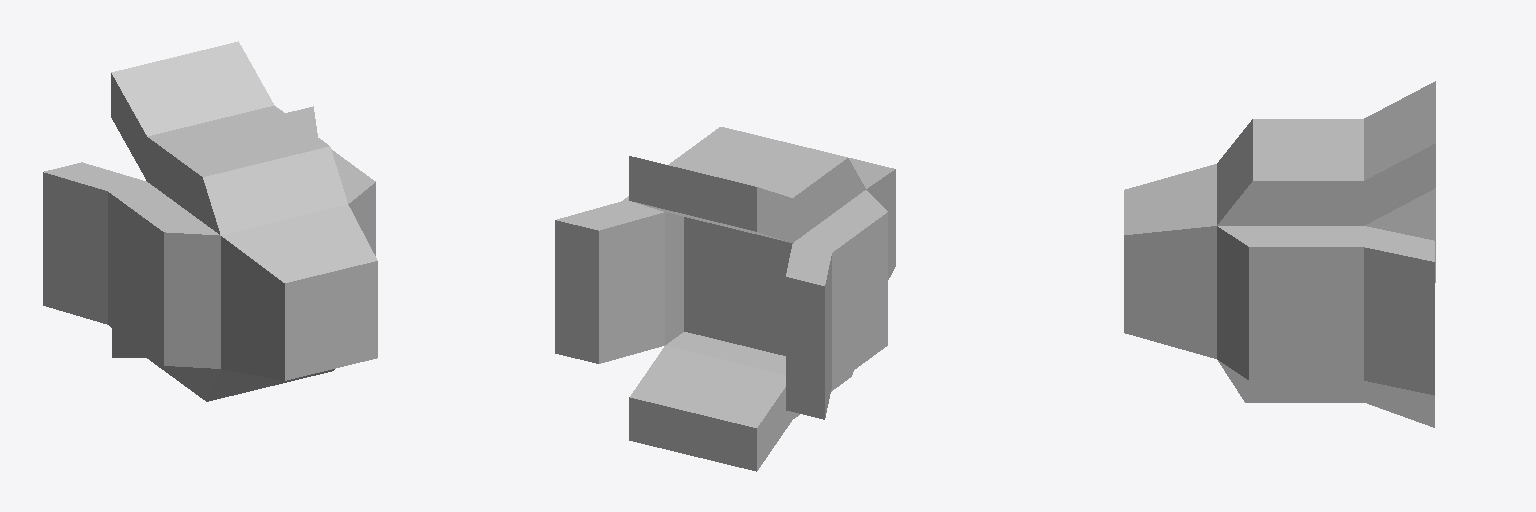
The model's file is spotlight.obj.
3 renders of one model, left to right at view 1: azimuth 30°, elevation 25°; view 2: azimuth 150°, elevation 25°; view 3: azimuth 270°, elevation 25°, orthographic.
Visible parts, largest first — view 1: Cube; view 2: Cube; view 3: Cube.
Boxes of the visible parts, box(x1,y1,x2,y2) form: Cube: box(43, 41, 377, 401); Cube: box(555, 127, 895, 471); Cube: box(1124, 81, 1435, 427).
Size of the model in its own units: 4.24 by 4.27 by 4.25.